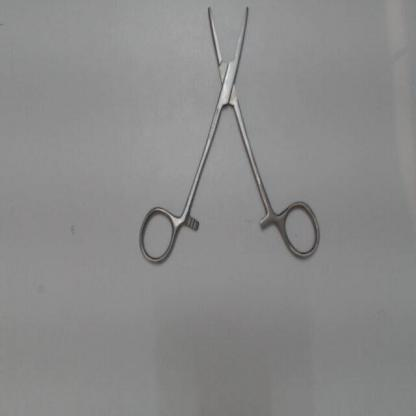Mayo Needle Holder: (132, 2, 329, 270)
